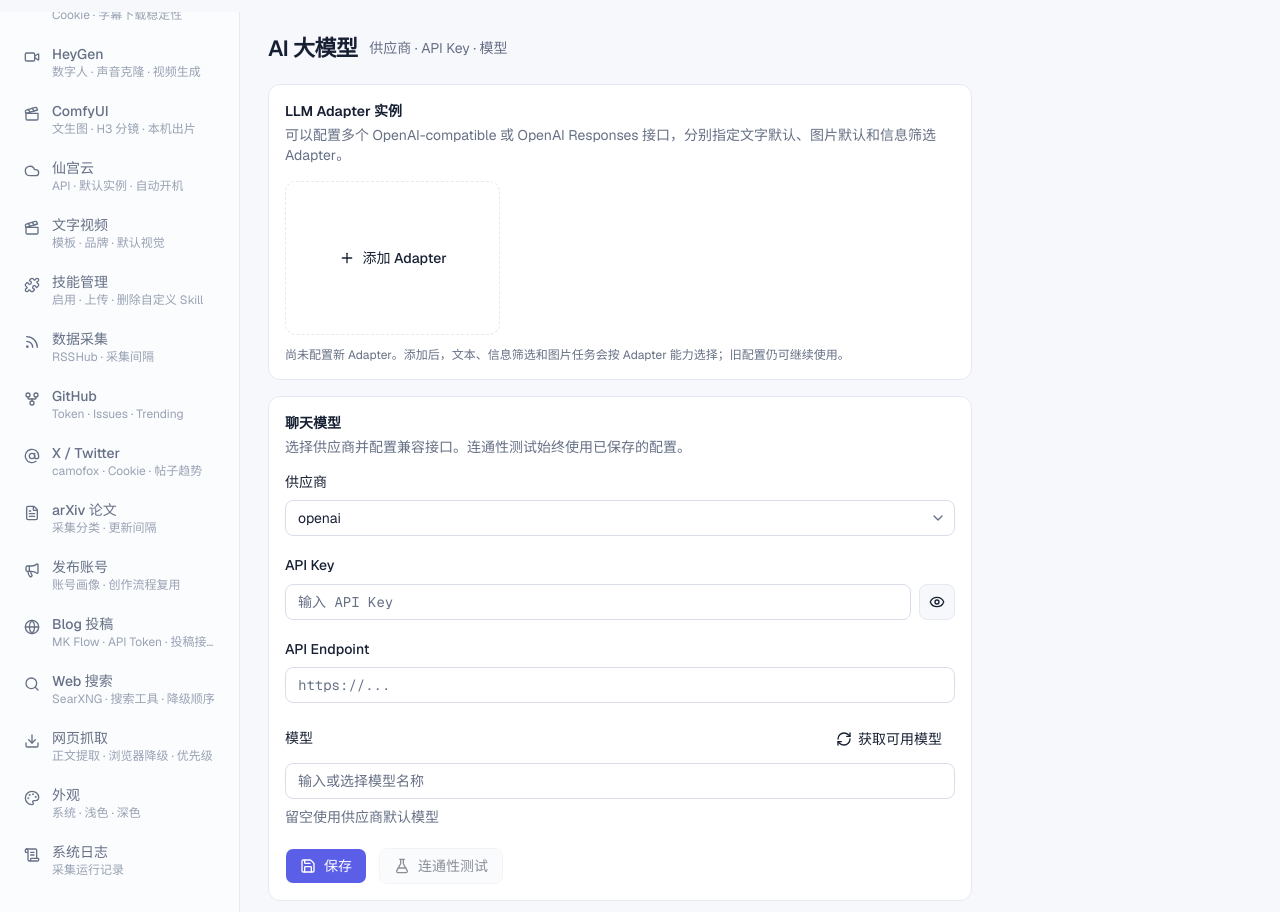
it: SettingsClient › opens the appearance section and renders it in the bounded content region
(page scrolled)
Click the button "外观 系统 · 浅色 · 深色" at (120, 804), box left=12, top=778, right=227, bottom=831
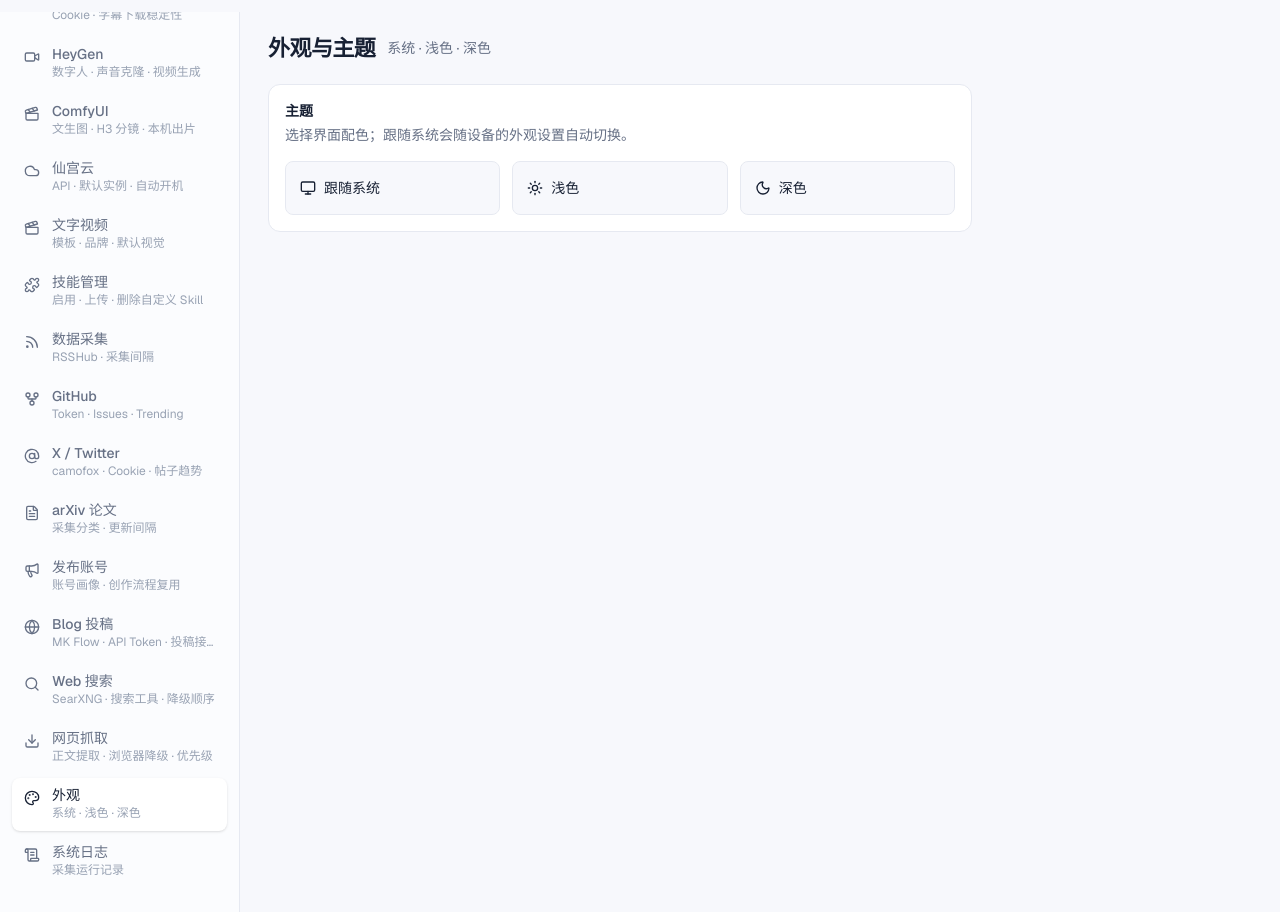
Expected: the heading "外观与主题" is shown, left=268, top=34, right=375, bottom=62
